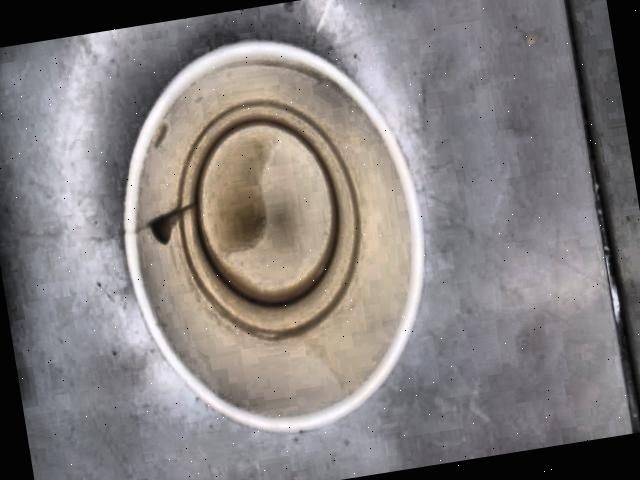Paper: (126, 42, 427, 432)
